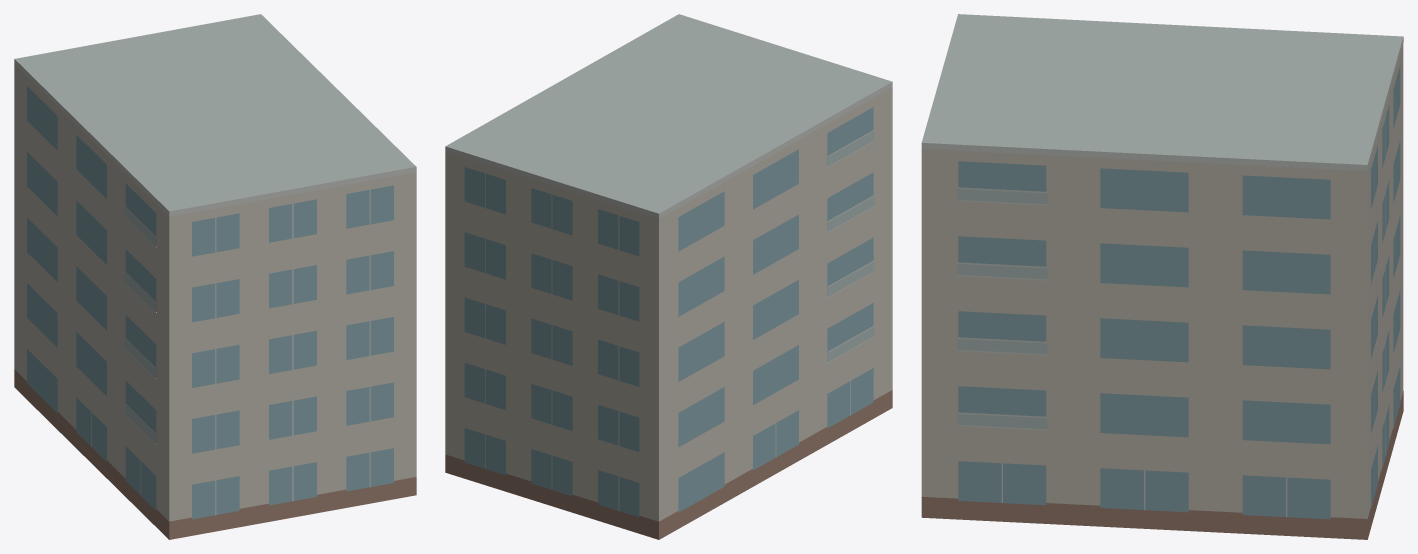
Rendered from survey-upis-32566806.glb.
3 views of the same model, side by side, from view 1: azimuth 30°, elevation 25°; view 2: azimuth 150°, elevation 25°; view 3: azimuth 270°, elevation 25° (orthographic). The views are drawn at different scales.
Visible parts, largest first — view 1: survey-upis-32566806.tmp; view 2: survey-upis-32566806.tmp; view 3: survey-upis-32566806.tmp.
Part boxes in pixels (box(x1,y1,x2,y2)): survey-upis-32566806.tmp: box(14, 14, 416, 539); survey-upis-32566806.tmp: box(445, 14, 892, 539); survey-upis-32566806.tmp: box(921, 14, 1403, 539).
Size of the model in its own units: 12.8 by 14.8 by 17.25.
